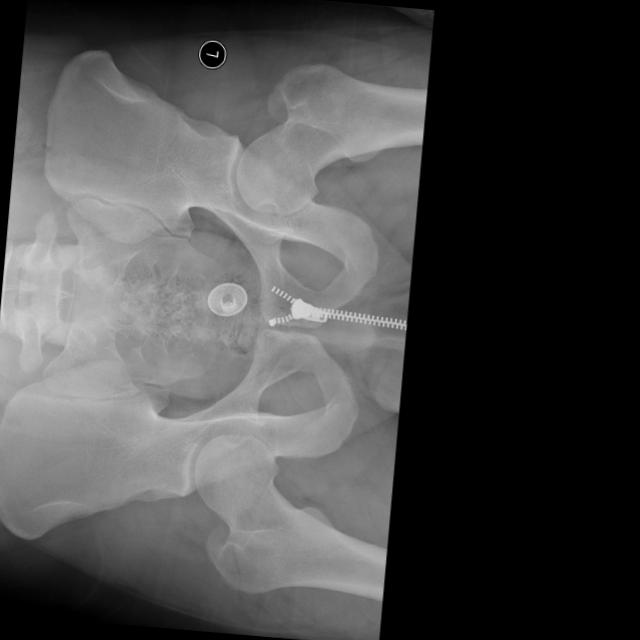normal-left: (236, 63, 426, 214)
normal-right: (194, 434, 385, 599)
